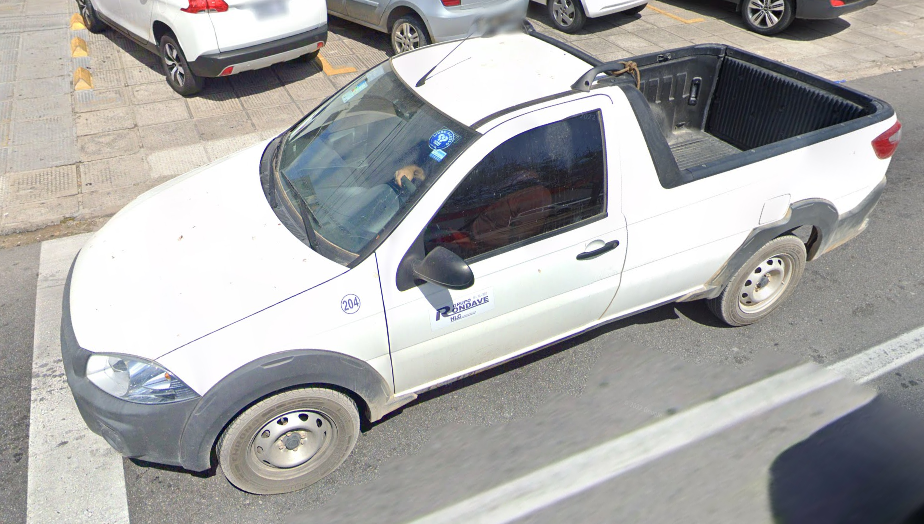car: (52, 31, 900, 495)
